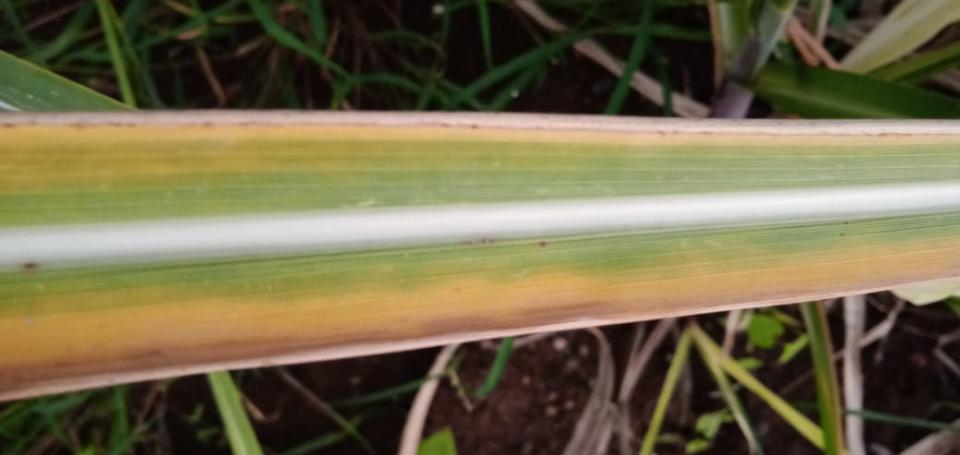Rust: (457, 237, 495, 245), (21, 259, 40, 271), (840, 221, 850, 237), (538, 238, 551, 249)
Yellow: (0, 234, 959, 402), (0, 111, 959, 184)
